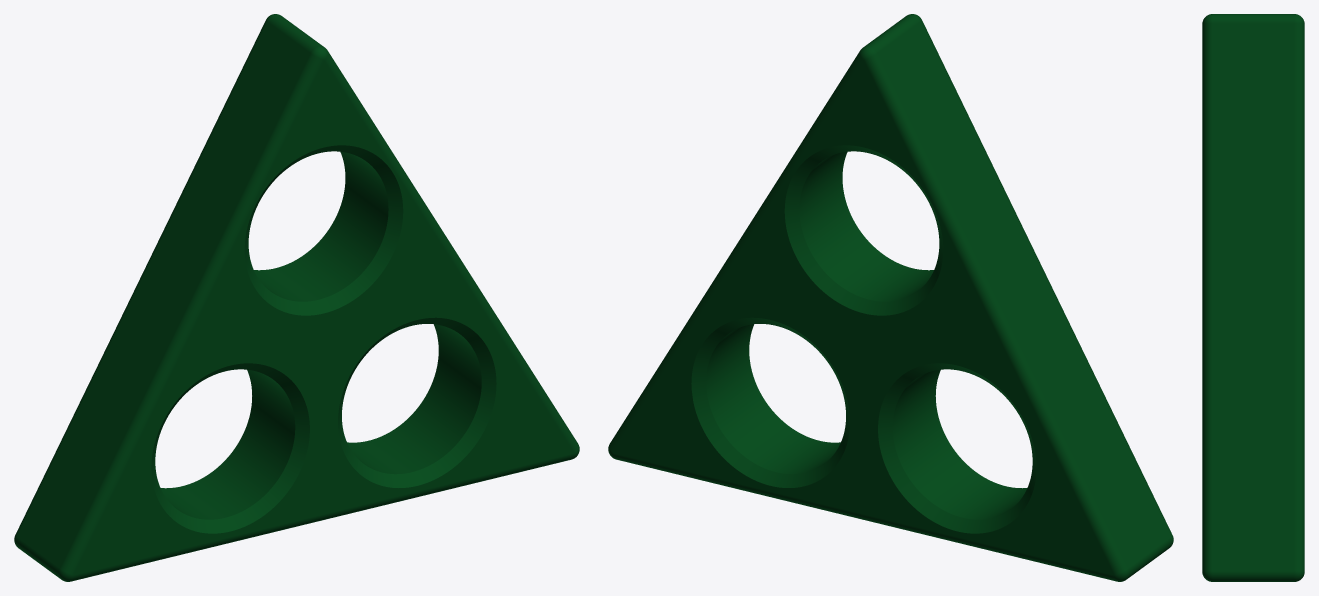
Rendered from toy_five_insertion_three.obj.
3 renders of one model, left to right at view 1: azimuth 30°, elevation 25°; view 2: azimuth 150°, elevation 25°; view 3: azimuth 270°, elevation 25°, orthographic. The views are drawn at different scales.
Size of the model in its own units: 0.0557 by 0.0485 by 0.01.
